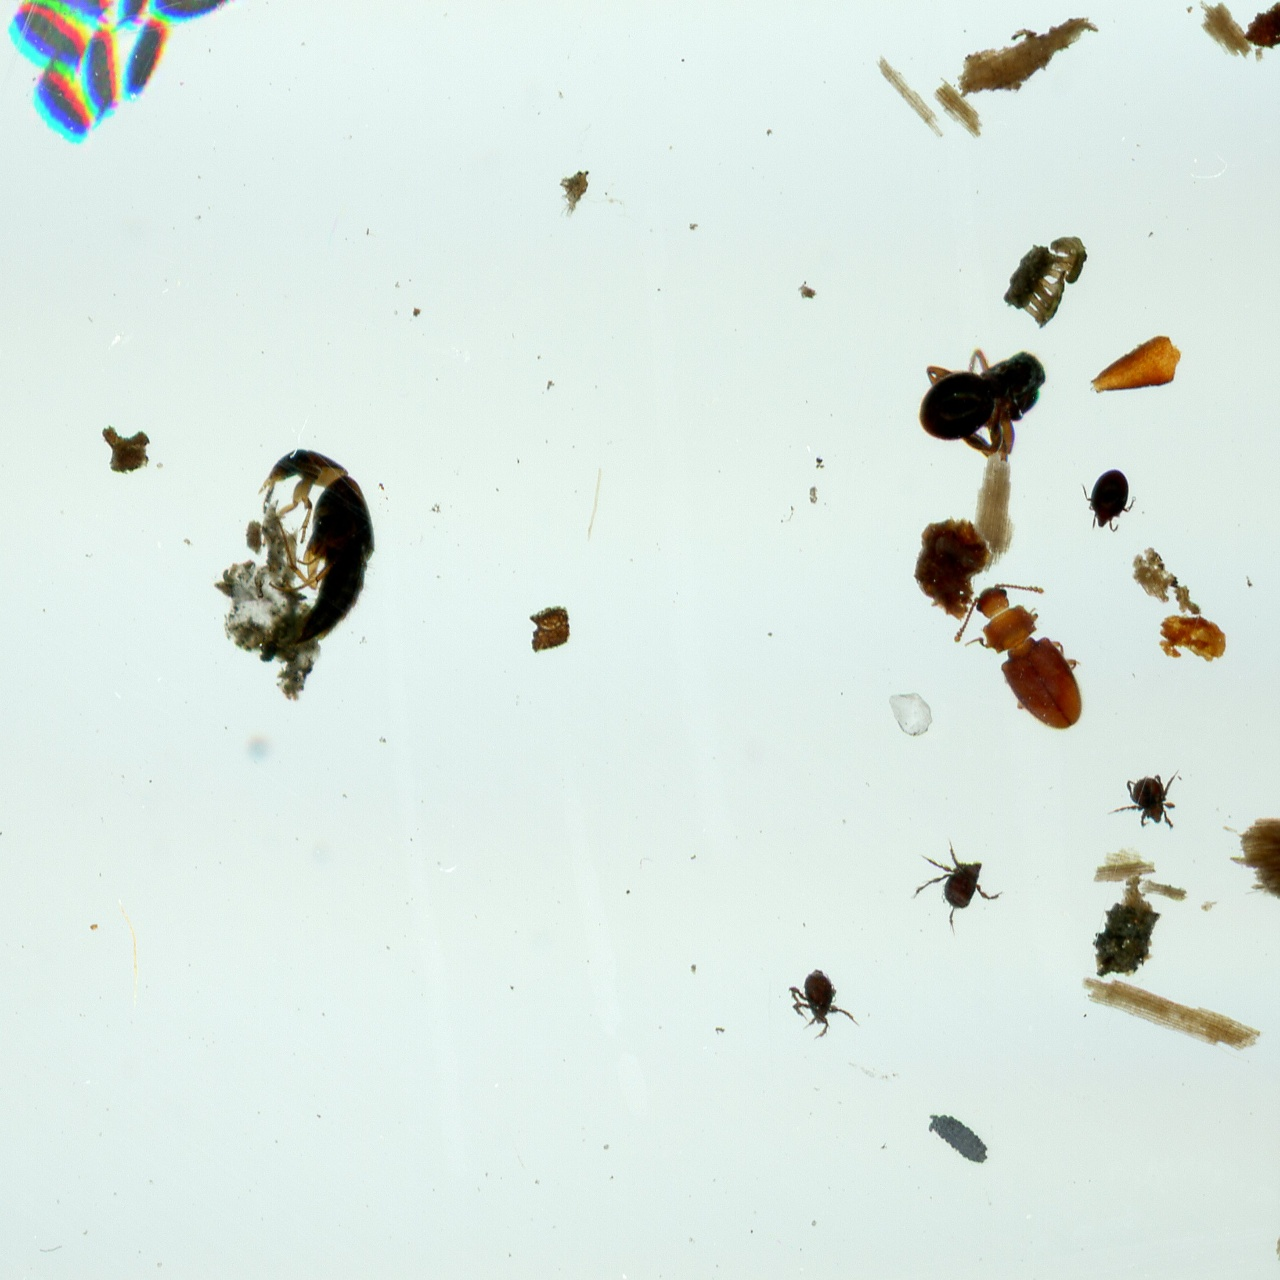arthropod: (937, 561, 1111, 760), (893, 318, 1078, 491), (256, 441, 379, 658), (908, 833, 1003, 935), (0, 0, 104, 80), (21, 59, 101, 148), (915, 1099, 1002, 1173), (785, 965, 863, 1042), (115, 12, 175, 108), (1101, 765, 1182, 832), (1080, 465, 1139, 535), (84, 21, 120, 117), (21, 0, 128, 32), (151, 0, 241, 25), (125, 0, 155, 11)
